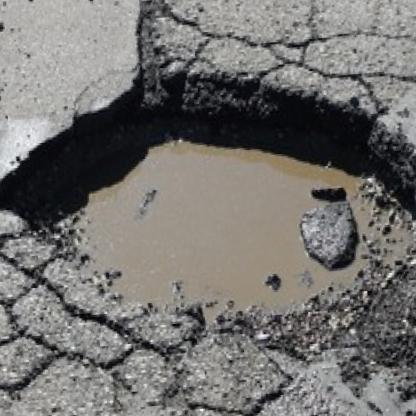pothole: (0, 44, 416, 348)
